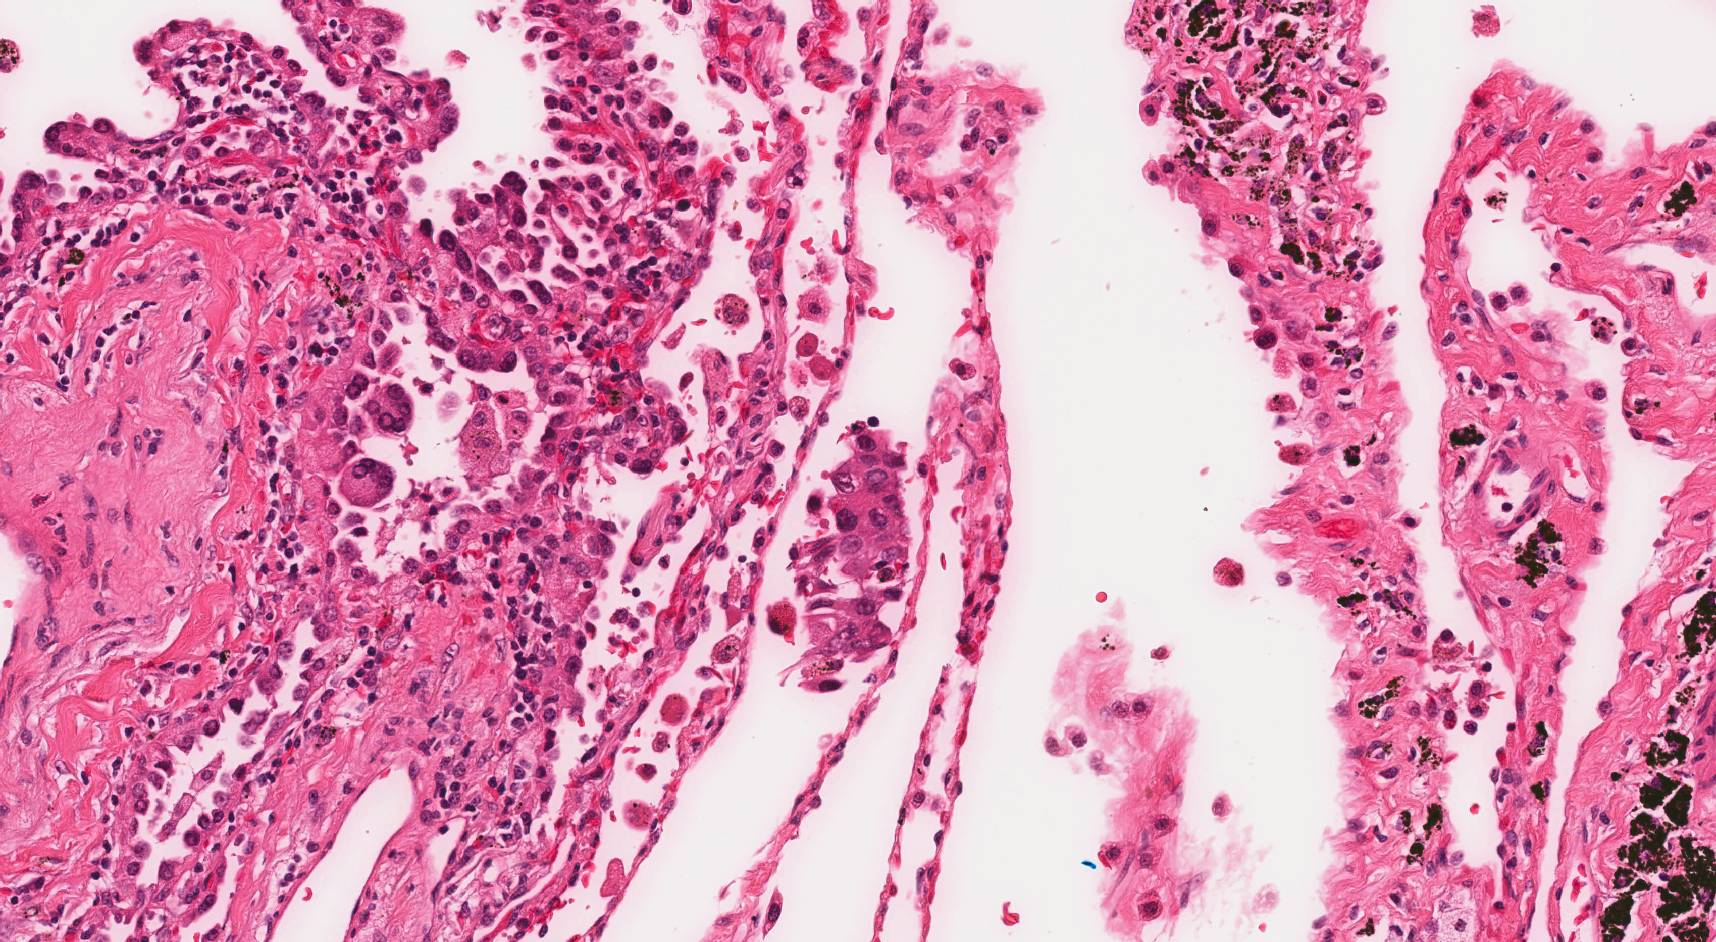stas: (796, 426, 912, 695)
